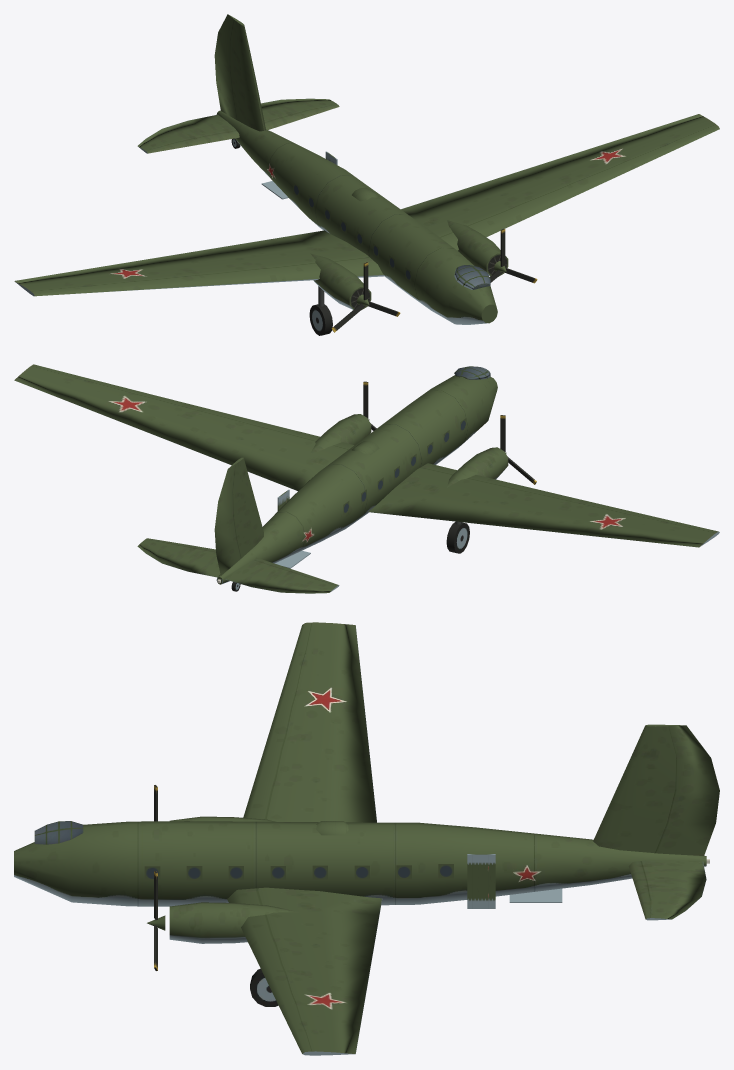
Rendered from airTransport.glb.
3 views of the same model, one above another, from view 1: azimuth 30°, elevation 25°; view 2: azimuth 150°, elevation 25°; view 3: azimuth 270°, elevation 25° (orthographic). The views are drawn at different scales.
Parts seen in each view (by area): view 1: fuselage, prop_right_pales, hublots, wheel_right; view 2: fuselage, hublots, wheel_right, prop_right_pales; view 3: fuselage, hublots, cabin_door.
Part boxes in pixels (<box>): fuselage: <box>14,14,719,324</box>; prop_right_pales: <box>331,262,400,332</box>; hublots: <box>293,182,411,282</box>; wheel_right: <box>309,304,332,335</box>; fuselage: <box>14,364,719,593</box>; hublots: <box>343,418,466,515</box>; wheel_right: <box>446,522,469,553</box>; prop_right_pales: <box>500,415,536,484</box>; fuselage: <box>14,622,719,1055</box>; hublots: <box>144,864,453,880</box>; cabin_door: <box>467,854,495,908</box>.
Size of the model in its own units: 28.81 by 7.4 by 20.03.
Materials: 6 (5 with a texture image).
